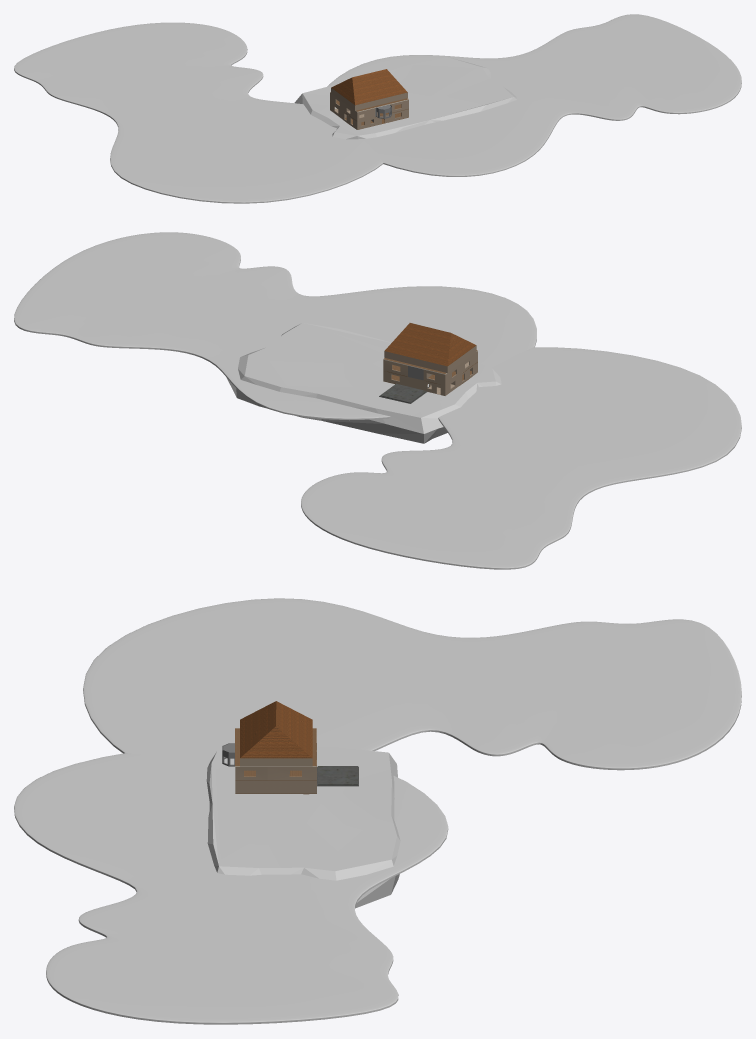
File: BaseMaison.fbx
3 renders of one model, top to bottom at view 1: azimuth 30°, elevation 25°; view 2: azimuth 150°, elevation 25°; view 3: azimuth 270°, elevation 25°, orthographic. The views are drawn at different scales.
Visible parts, largest first — view 1: Lake__2_, Lake, Cliff_2__10_, Collection_001, Collection_001_RDC_Cuisine__ArriereMaison_Mur_001_L_Floor_RD; view 2: Lake__2_, Lake, Cliff_2__10_, Collection_001, Collection_001_RDC_Cuisine__ArriereMaison_Mur_001_L_Floor_RD; view 3: Lake__2_, Lake, Cliff_2__10_, Collection_001, Collection_001_RDC_Cuisine__ArriereMaison_Mur_001_L_Floor_RD.
Part boxes in pixels (x1,y1,x2,y2): Lake__2_: [14, 22, 383, 203]; Lake: [327, 14, 741, 176]; Cliff_2__10_: [294, 57, 516, 139]; Collection_001: [330, 69, 408, 112]; Collection_001_RDC_Cuisine__ArriereMaison_Mur_001_L_Floor_RD: [330, 92, 408, 129]; Lake__2_: [301, 347, 741, 569]; Lake: [14, 232, 536, 420]; Cliff_2__10_: [226, 323, 501, 443]; Collection_001: [379, 323, 477, 403]; Collection_001_RDC_Cuisine__ArriereMaison_Mur_001_L_Floor_RD: [383, 351, 477, 395]; Lake__2_: [83, 598, 741, 770]; Lake: [14, 753, 448, 1024]; Cliff_2__10_: [206, 746, 400, 908]; Collection_001: [235, 701, 358, 786]; Collection_001_RDC_Cuisine__ArriereMaison_Mur_001_L_Floor_RD: [235, 743, 316, 793].
Size of the model in its own units: 26251 by 2623 by 19022.
